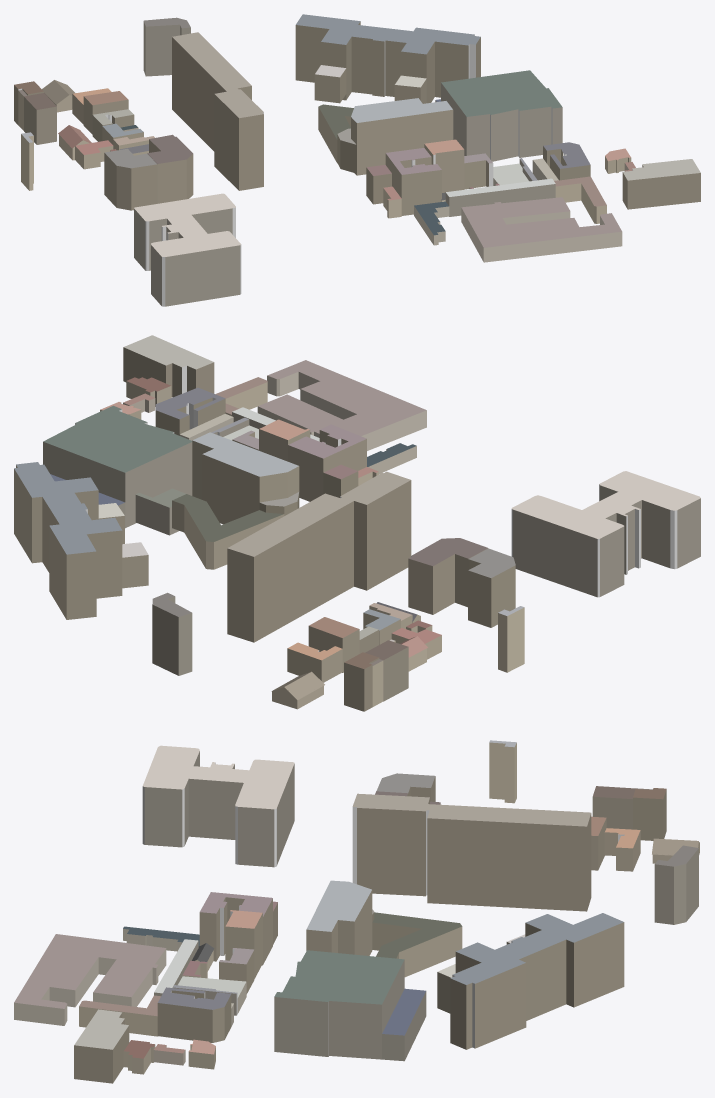
The picture shows the model from 3 angles, top to bottom: view 1: azimuth 30°, elevation 25°; view 2: azimuth 150°, elevation 25°; view 3: azimuth 270°, elevation 25°; orthographic projection. The views are drawn at different scales.
Visible parts, largest first — view 1: tuile; view 2: tuile; view 3: tuile.
Part boxes in pixels (bbox=[...]): tuile: bbox=[14, 14, 700, 306]; tuile: bbox=[14, 335, 700, 711]; tuile: bbox=[14, 740, 699, 1083].
Bounding box in the file's own units: 261 × 42.63 × 261.
